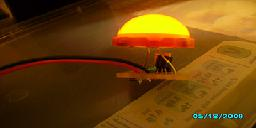LED: (111, 11, 198, 52)
